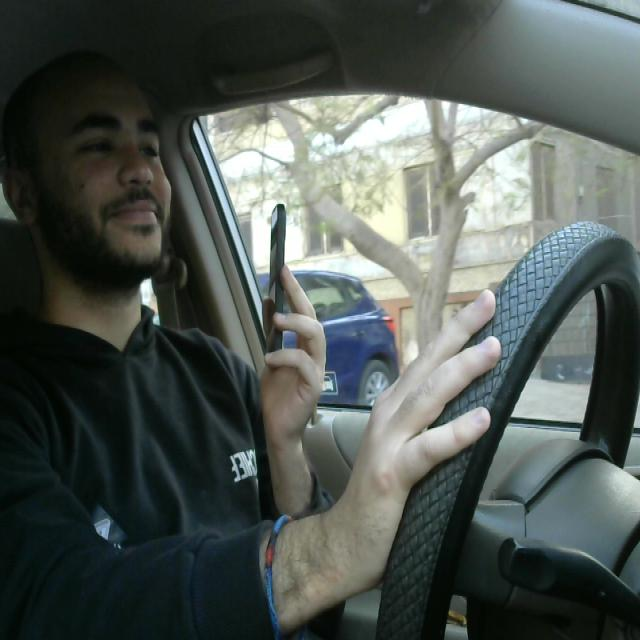mobile use: (262, 195, 294, 375)
